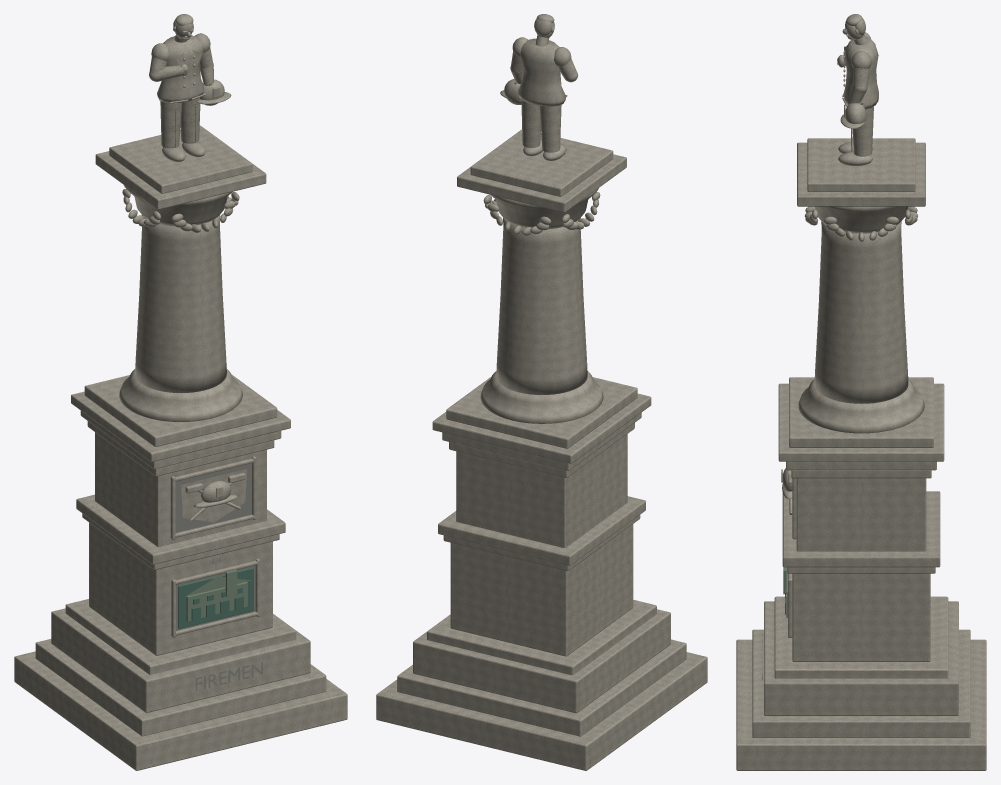
Rendered from firemen-memorial.glb.
3 views of the same model, side by side, from view 1: azimuth 30°, elevation 25°; view 2: azimuth 150°, elevation 25°; view 3: azimuth 270°, elevation 25° (orthographic). The views are drawn at different scales.
Visible parts, largest first — view 1: firemen-memorial Firemen warm weathered stone, firemen-memorial Firemen carved recess, firemen-memorial Firemen patinated relief, firemen-memorial Firemen raised bronze; view 2: firemen-memorial Firemen warm weathered stone; view 3: firemen-memorial Firemen warm weathered stone.
Part boxes in pixels (x1,y1,x2,y2): firemen-memorial Firemen warm weathered stone: [14, 14, 347, 770]; firemen-memorial Firemen carved recess: [175, 30, 262, 690]; firemen-memorial Firemen patinated relief: [178, 567, 253, 628]; firemen-memorial Firemen raised bronze: [185, 569, 251, 621]; firemen-memorial Firemen warm weathered stone: [376, 14, 707, 770]; firemen-memorial Firemen warm weathered stone: [736, 14, 986, 770].
Size of the model in its own units: 3.4 by 10.55 by 3.4.
Materials: 4 (1 with a texture image).
